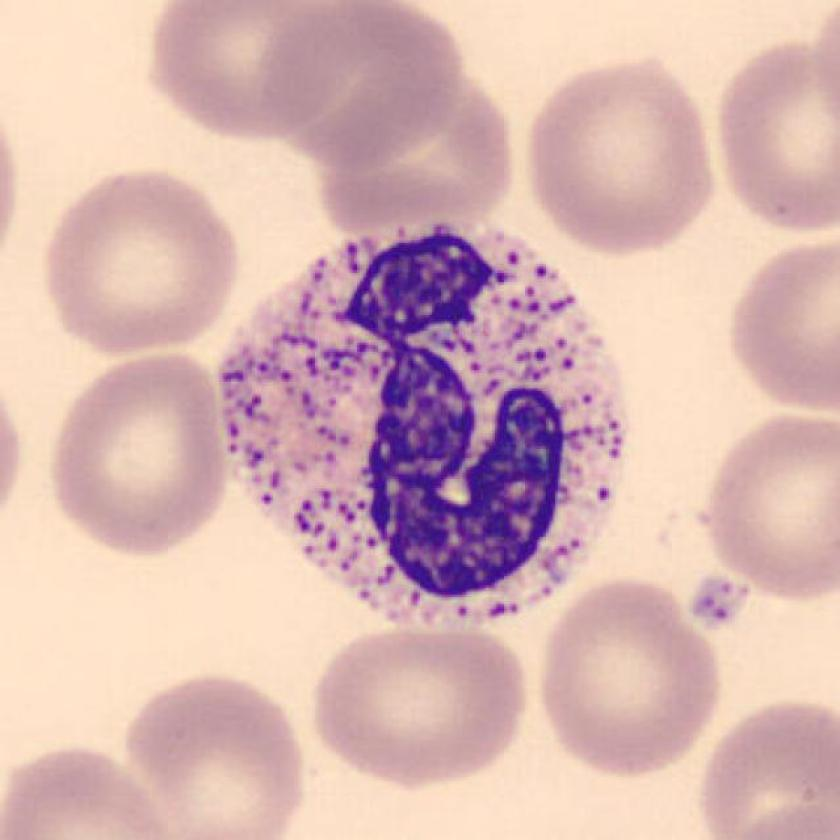neutrophil: (218, 219, 627, 628)
